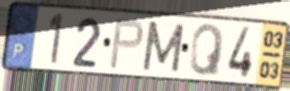1: (47, 12, 64, 67)
2: (69, 13, 106, 70)
4: (224, 24, 254, 81)
M: (140, 19, 187, 75)
P: (107, 18, 146, 71)
Q: (188, 22, 227, 78)
